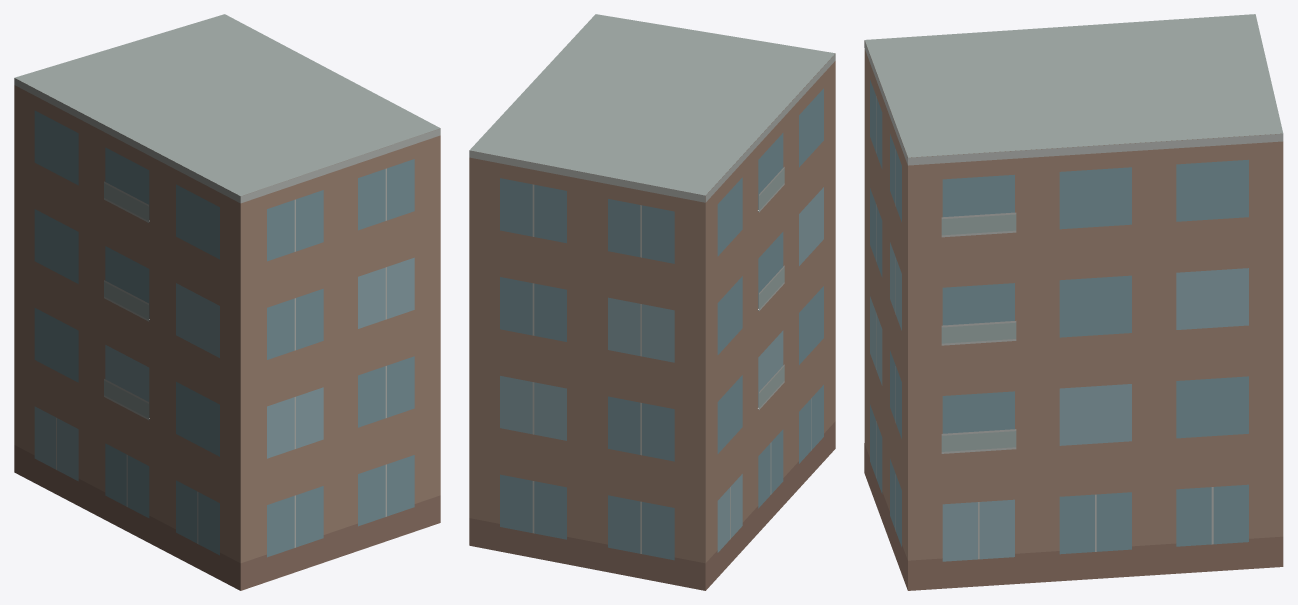
Rendered from survey-upis-32922169.glb.
The picture shows the model from 3 angles, left to right: view 1: azimuth 30°, elevation 25°; view 2: azimuth 150°, elevation 25°; view 3: azimuth 270°, elevation 25°; orthographic projection. The views are drawn at different scales.
Parts seen in each view (by area): view 1: survey-upis-32922169.tmp; view 2: survey-upis-32922169.tmp; view 3: survey-upis-32922169.tmp.
Boxes of the visible parts, x1,y1,x2,y2 form: survey-upis-32922169.tmp: [14, 14, 440, 590]; survey-upis-32922169.tmp: [469, 14, 835, 590]; survey-upis-32922169.tmp: [864, 14, 1283, 590].
Bounding box in the file's own units: 9.54 × 13.4 × 11.75.
